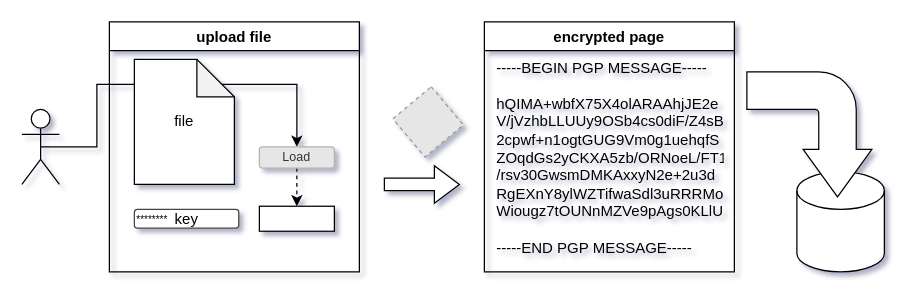
Image size: 914x301. Some labels were removed from this diagram. Grey dashed boxes stand in for pictures. The centre of each missing label's shape, as x and y in pixels:
Actor: pixel 40 146
encrypt: pixel 296 218
IPFS: pixel 840 221
